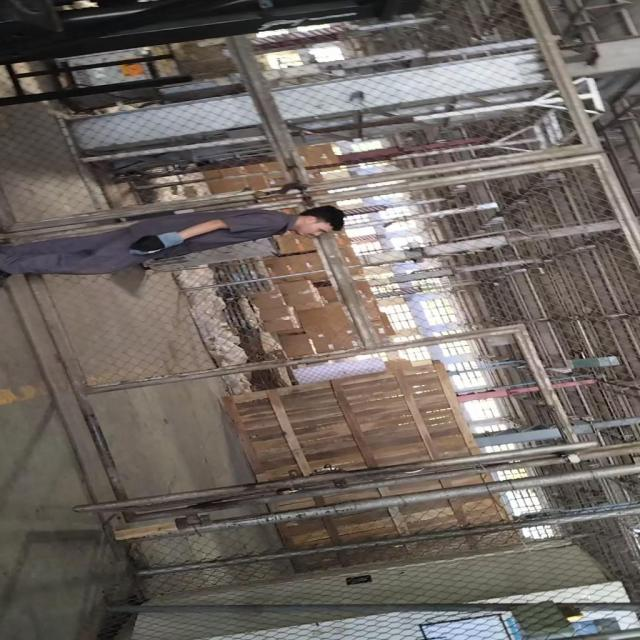Gloves-Detection: (126, 224, 189, 262)
